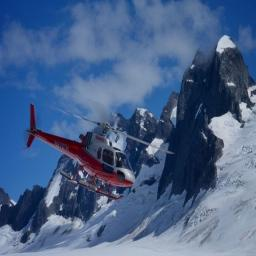helicopter: (29, 100, 177, 202)
